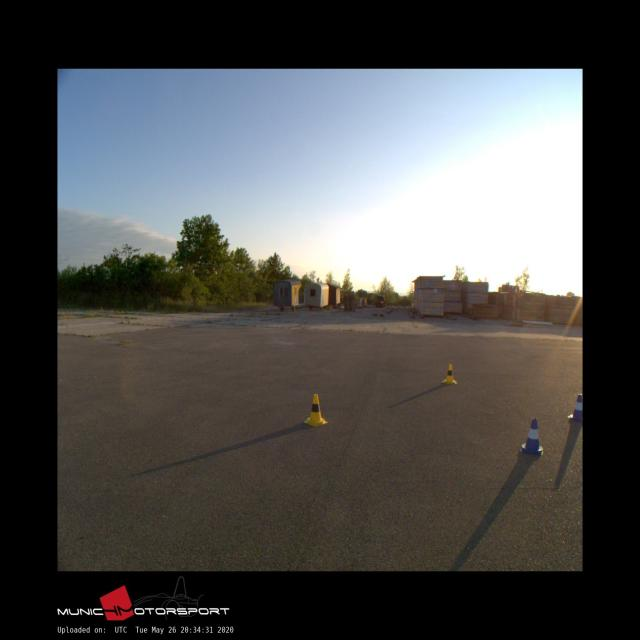blue_cone: (520, 417, 542, 455), (567, 394, 582, 419)
yellow_cone: (304, 394, 327, 426), (442, 364, 456, 383)
